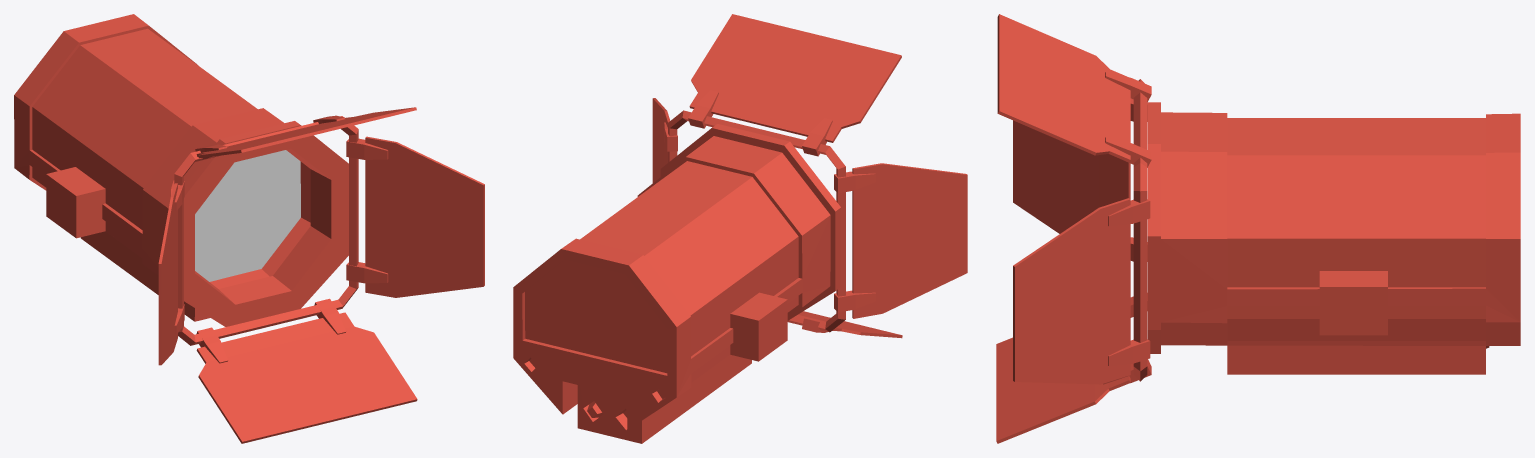
Rendered from SM_Light_Reflector_Tripod_Light.fbx.
The picture shows the model from 3 angles, left to right: view 1: azimuth 30°, elevation 25°; view 2: azimuth 150°, elevation 25°; view 3: azimuth 270°, elevation 25°; orthographic projection. The views are drawn at different scales.
Visible parts, largest first — view 1: SM_Light_Reflector_Tripod_Light; view 2: SM_Light_Reflector_Tripod_Light; view 3: SM_Light_Reflector_Tripod_Light.
Boxes of the visible parts, box(x1,y1,x2,y2) form: SM_Light_Reflector_Tripod_Light: box(14, 14, 484, 443); SM_Light_Reflector_Tripod_Light: box(513, 14, 967, 443); SM_Light_Reflector_Tripod_Light: box(996, 14, 1520, 443).
Size of the model in its own units: 53.73 by 43.8 by 37.64.
